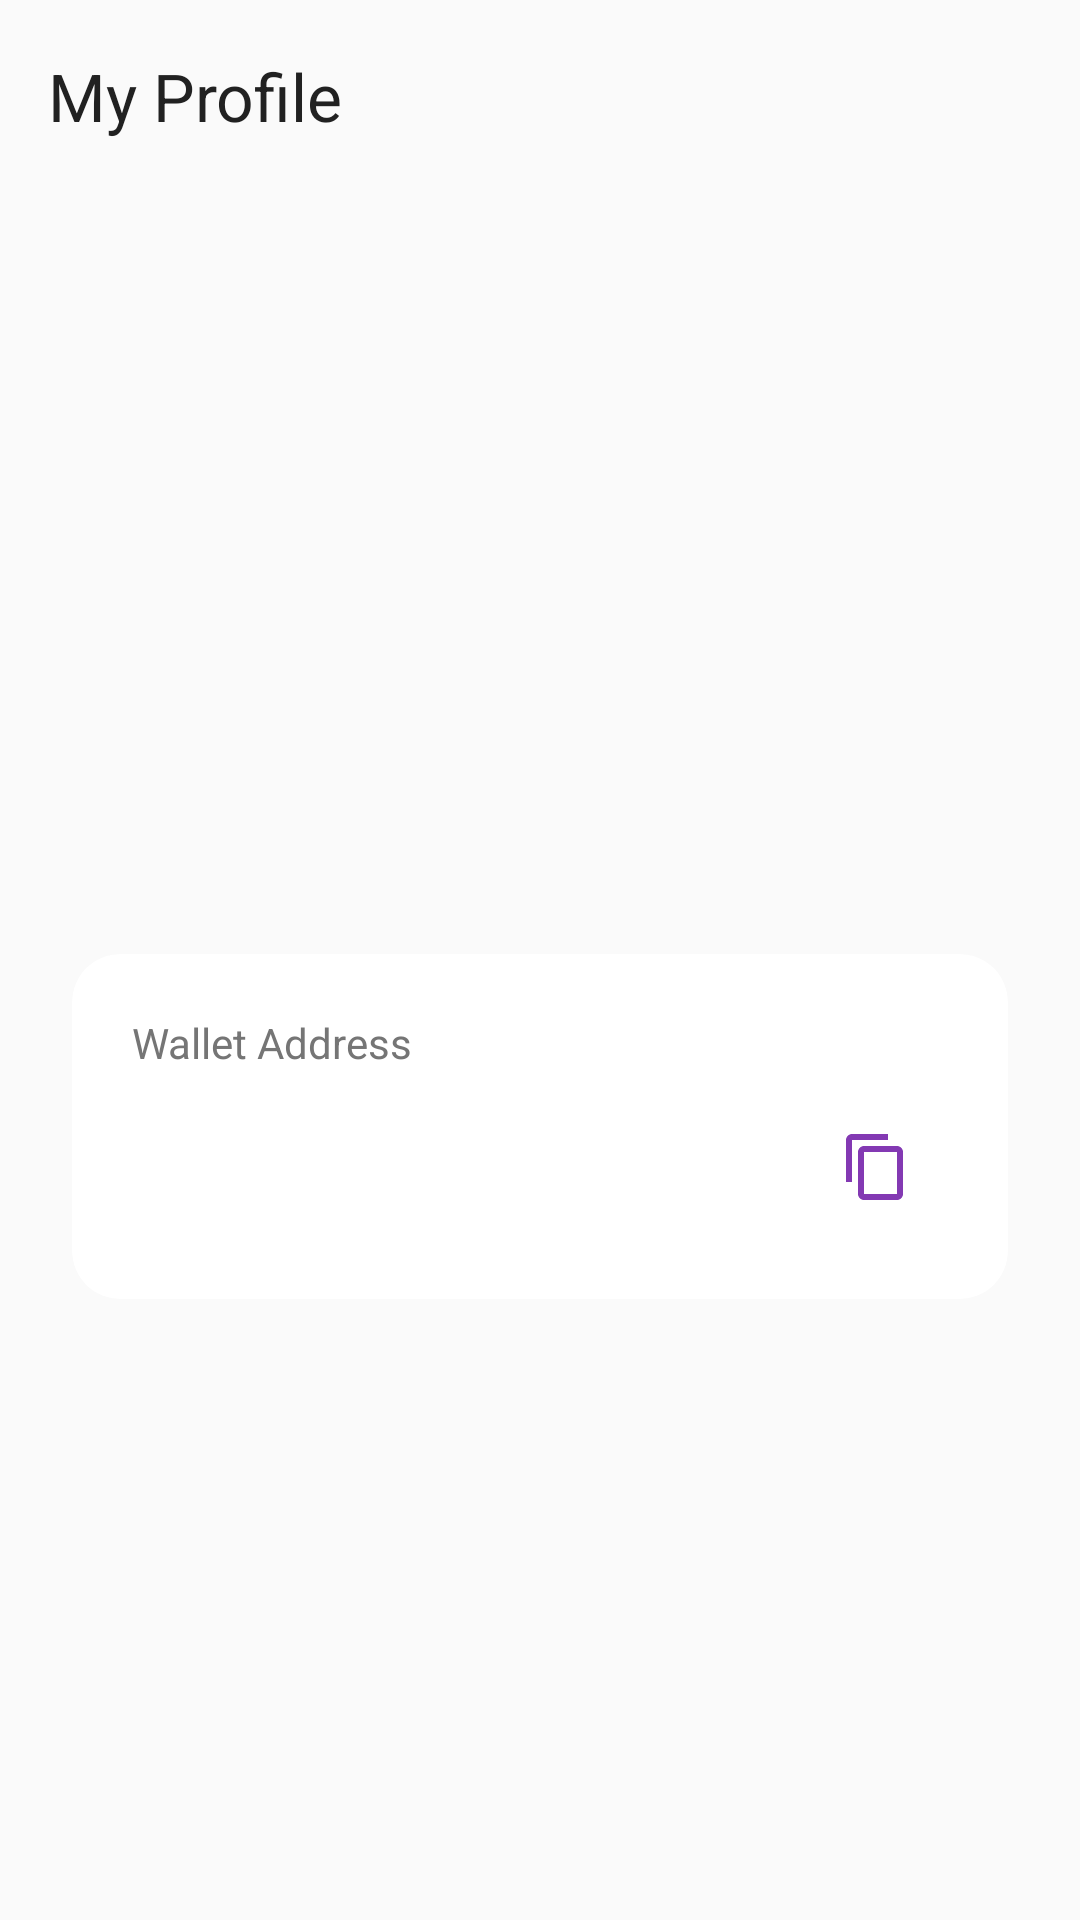

Icons on this 1080 × 1920 Android screen, each with its box as bbox=[x1, y1, x2, y2]:
Copy Wallet Address: bbox=[846, 1134, 903, 1200]
